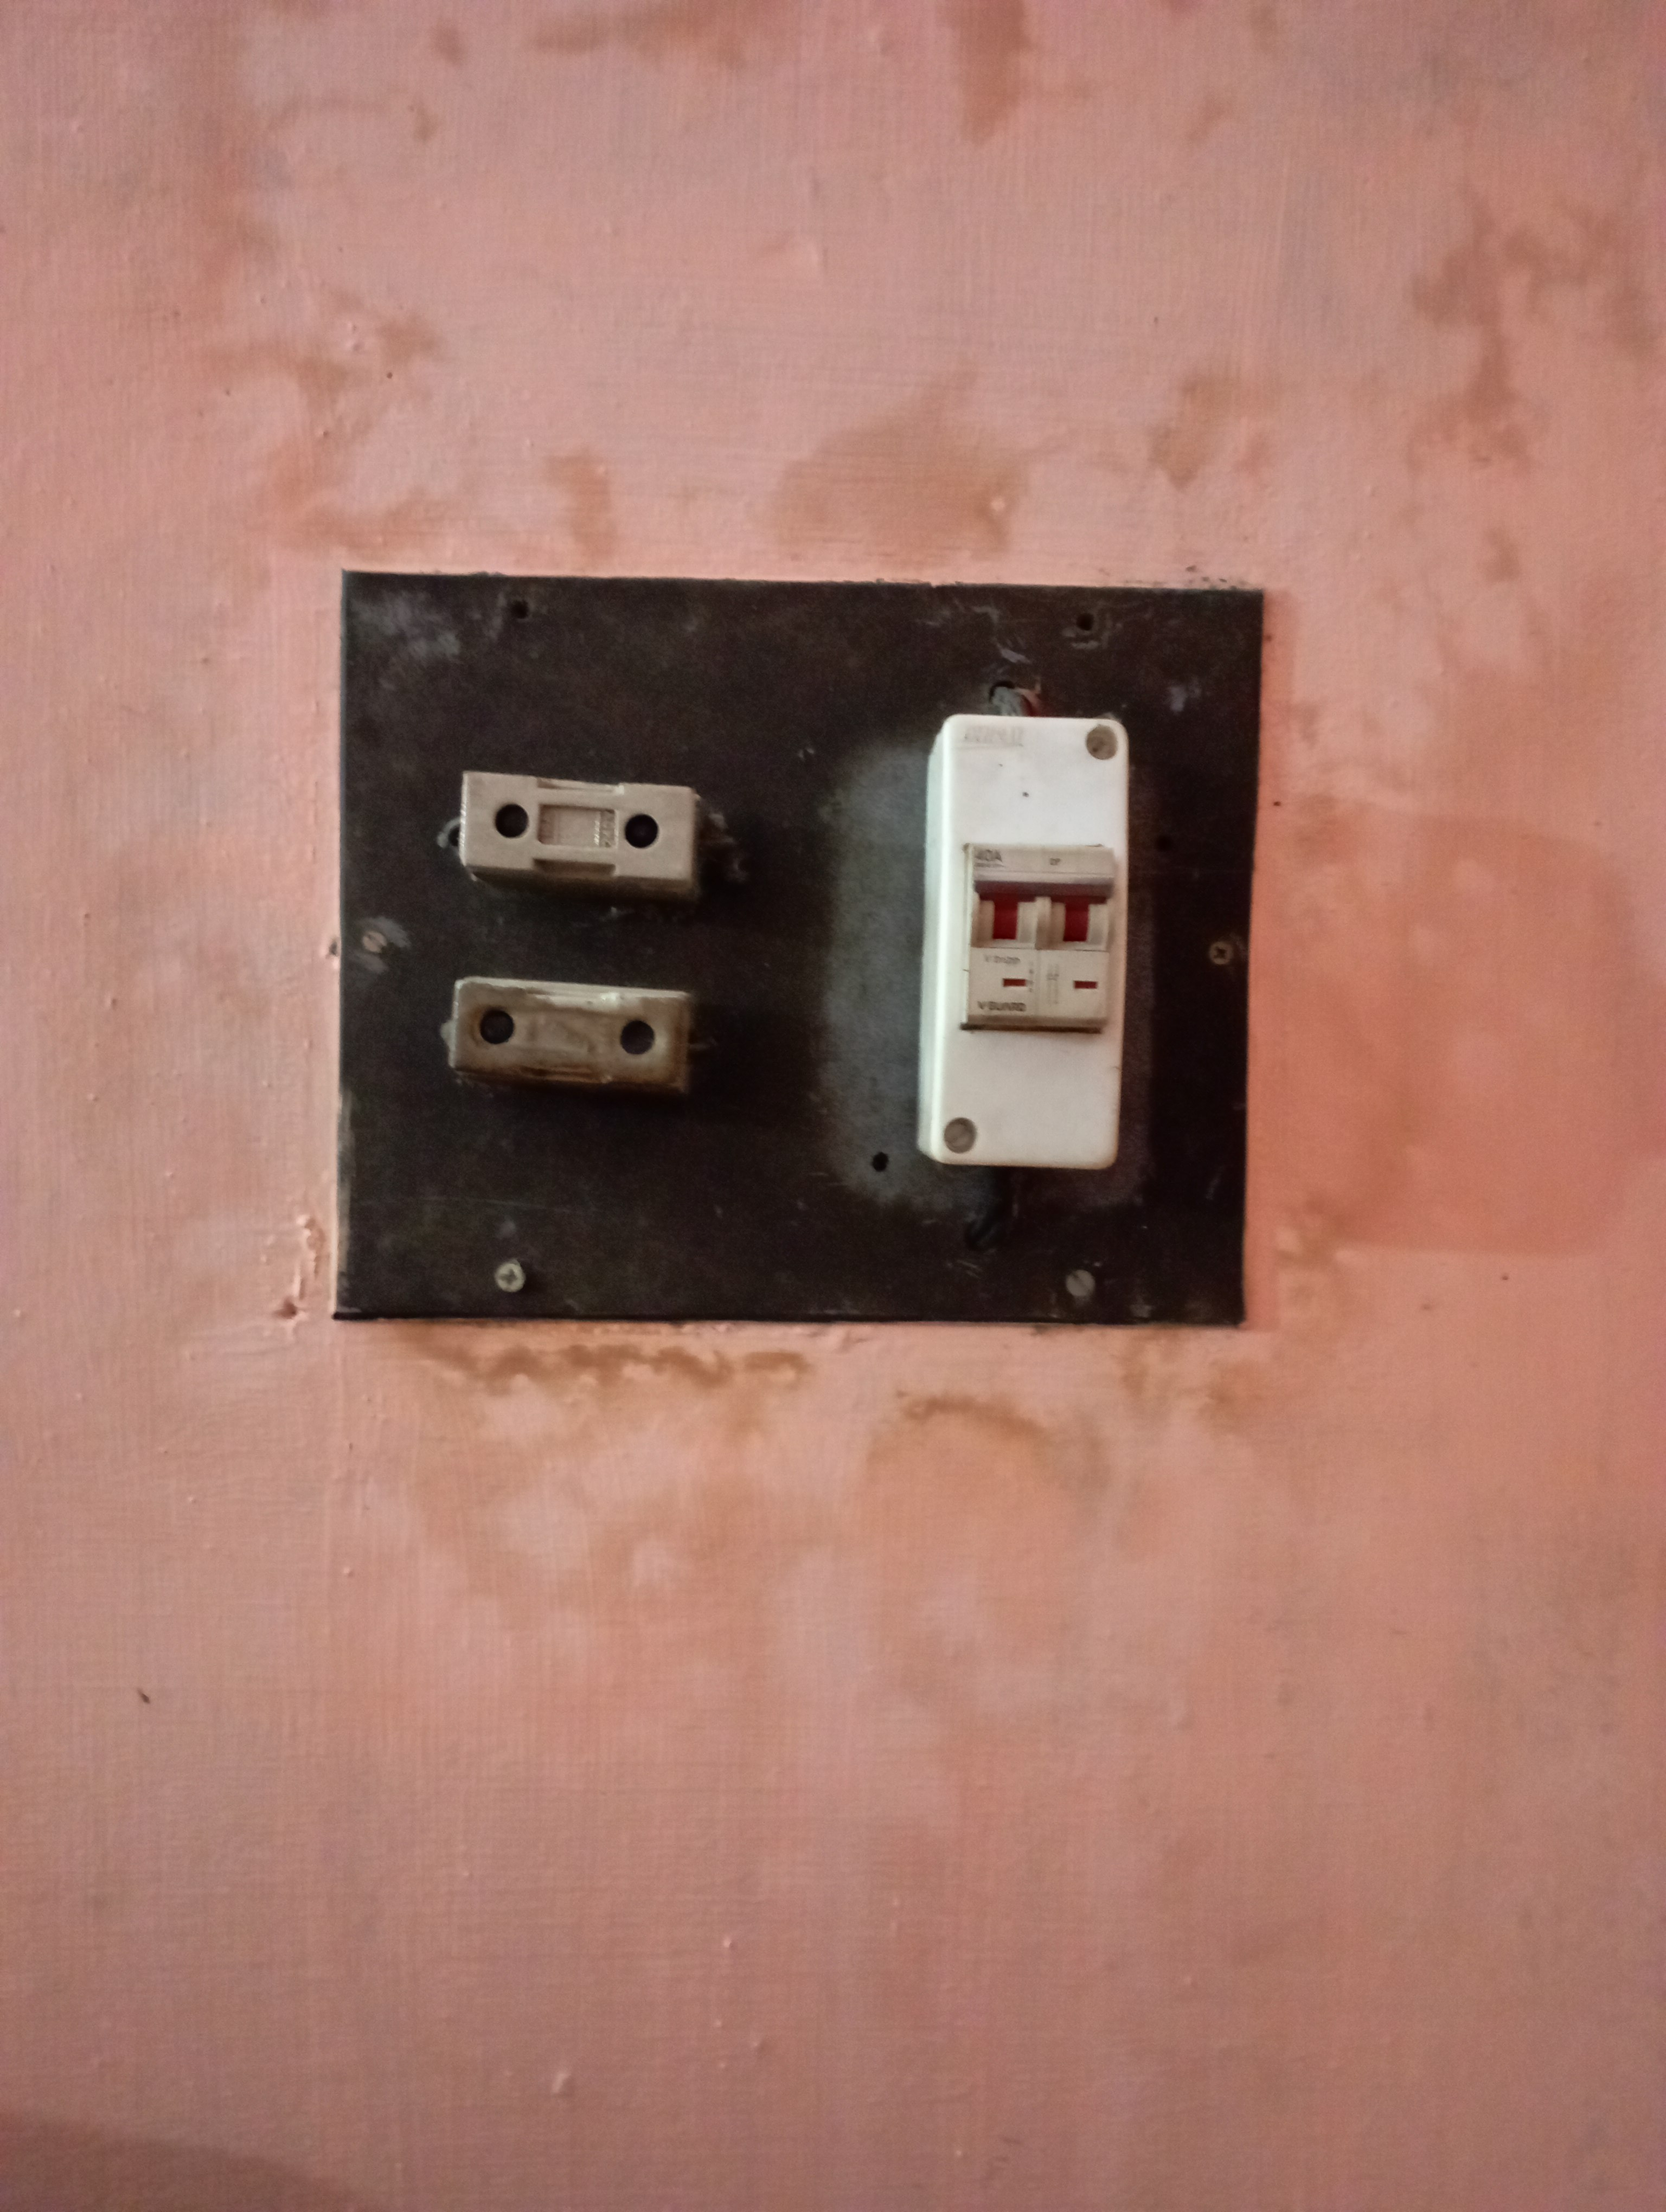ciruit_breaker: (926, 722, 1132, 1172)
fuse: (453, 771, 691, 904), (467, 974, 696, 1098)
